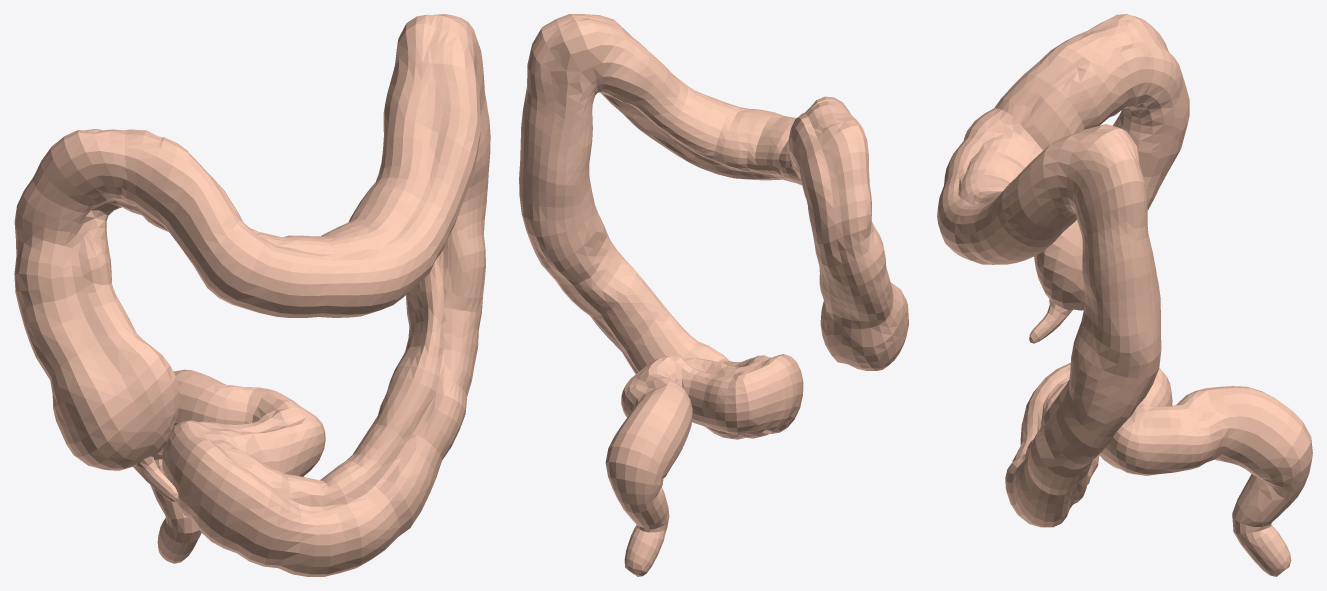
The model's file is SBU_F_Intestine_Large_0.8.glb.
The picture shows the model from 3 angles, left to right: view 1: azimuth 30°, elevation 25°; view 2: azimuth 150°, elevation 25°; view 3: azimuth 270°, elevation 25°; orthographic projection. The views are drawn at different scales.
Parts seen in each view (by area): view 1: VH_F_transverse_colon, VH_F_descending_colon, VH_F_sigmoid_colon, VH_F_ascending_colon, VH_F_caecum, VH_F_rectum, VH_F_hepatic_flexure_of_colon, VH_F_splenic_flexure_of_colon, VH_F_vermiform_appendix; view 2: VH_F_descending_colon, VH_F_transverse_colon, VH_F_ascending_colon, VH_F_rectum, VH_F_sigmoid_colon, VH_F_caecum, VH_F_splenic_flexure_of_colon, VH_F_hepatic_flexure_of_colon; view 3: VH_F_descending_colon, VH_F_transverse_colon, VH_F_rectum, VH_F_sigmoid_colon, VH_F_ascending_colon, VH_F_caecum, VH_F_hepatic_flexure_of_colon, VH_F_splenic_flexure_of_colon, VH_F_vermiform_appendix.
Boxes of the visible parts, <box> form: VH_F_transverse_colon: <box>78,14,480,317</box>; VH_F_descending_colon: <box>278,14,490,576</box>; VH_F_sigmoid_colon: <box>162,385,325,567</box>; VH_F_ascending_colon: <box>14,130,135,379</box>; VH_F_caecum: <box>50,327,179,470</box>; VH_F_rectum: <box>150,369,230,563</box>; VH_F_hepatic_flexure_of_colon: <box>24,129,188,259</box>; VH_F_splenic_flexure_of_colon: <box>402,14,488,128</box>; VH_F_vermiform_appendix: <box>133,456,178,502</box>; VH_F_descending_colon: <box>519,14,744,439</box>; VH_F_transverse_colon: <box>569,14,862,185</box>; VH_F_ascending_colon: <box>800,125,893,328</box>; VH_F_rectum: <box>605,380,692,576</box>; VH_F_sigmoid_colon: <box>622,354,803,438</box>; VH_F_caecum: <box>820,282,908,370</box>; VH_F_splenic_flexure_of_colon: <box>525,16,649,142</box>; VH_F_hepatic_flexure_of_colon: <box>788,96,874,252</box>; VH_F_descending_colon: <box>1005,128,1161,527</box>; VH_F_transverse_colon: <box>937,14,1163,264</box>; VH_F_rectum: <box>1196,386,1312,576</box>; VH_F_sigmoid_colon: <box>1021,362,1201,475</box>; VH_F_ascending_colon: <box>1112,15,1189,210</box>; VH_F_caecum: <box>1034,220,1085,310</box>; VH_F_hepatic_flexure_of_colon: <box>1045,19,1180,150</box>; VH_F_splenic_flexure_of_colon: <box>1022,130,1140,257</box>; VH_F_vermiform_appendix: <box>1029,299,1072,343</box>.
Size of the model in its own units: 0.2433 by 0.2953 by 0.1934.
